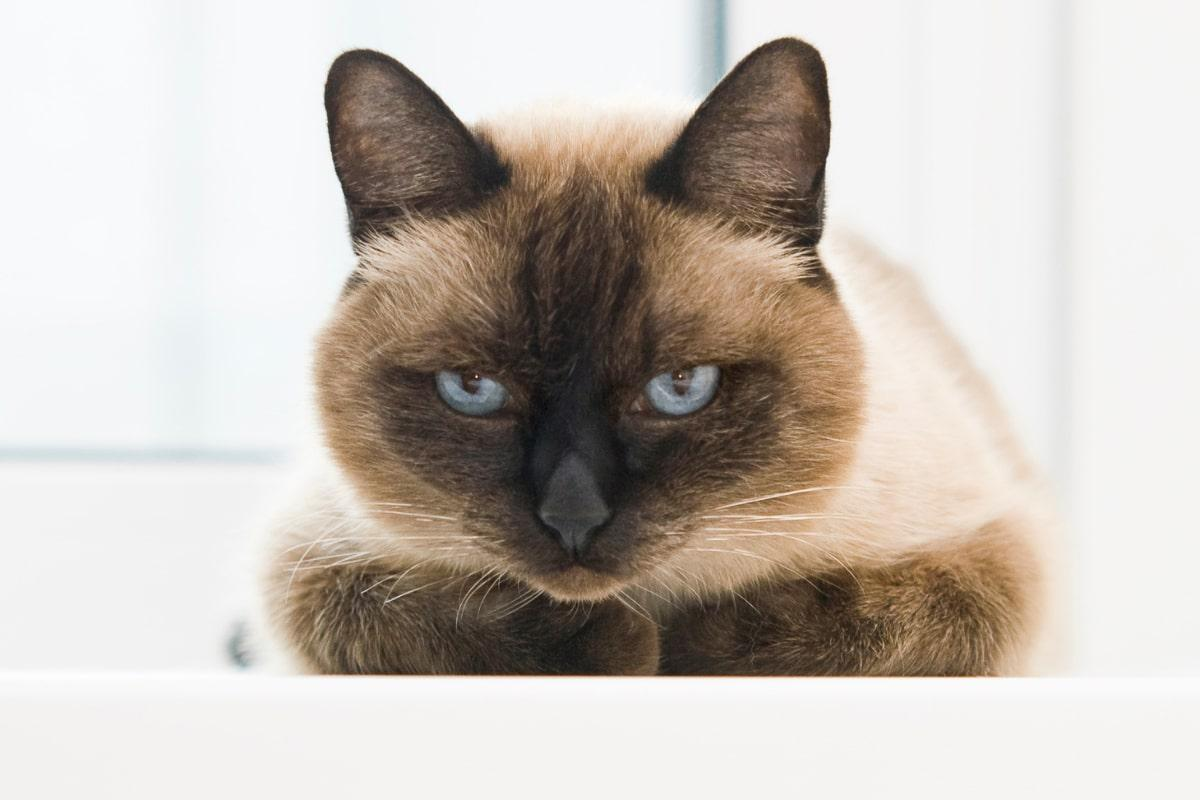siamese: (301, 29, 864, 624)
